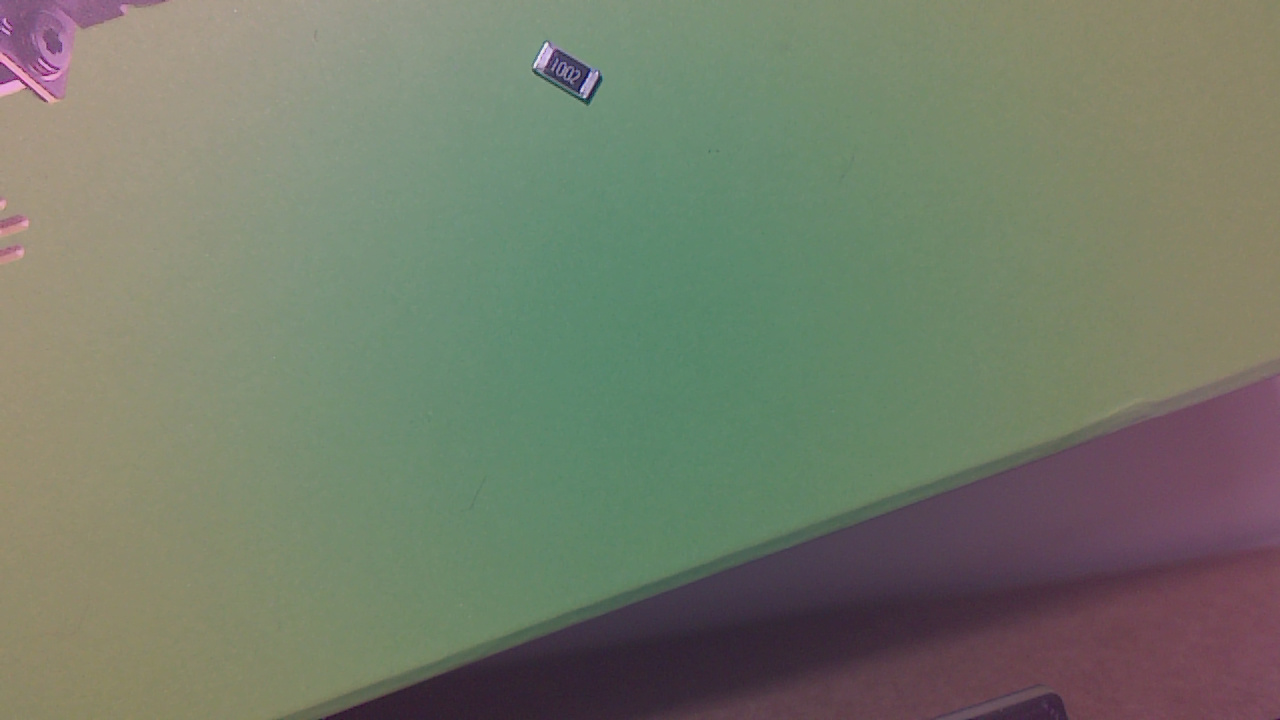Resistor: (536, 44, 609, 110)
